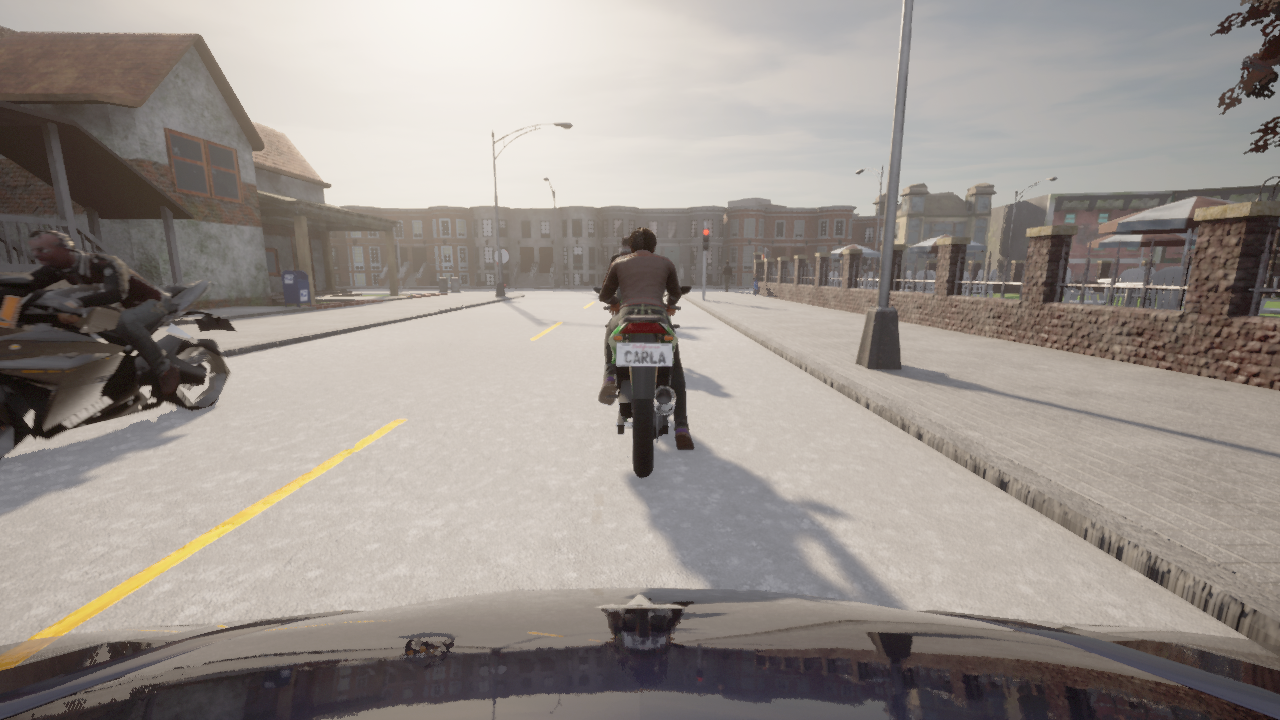cyclist: (0, 588, 1279, 719), (0, 273, 237, 460), (594, 286, 690, 477)
pedestrian: (721, 261, 732, 291), (751, 272, 760, 296)
